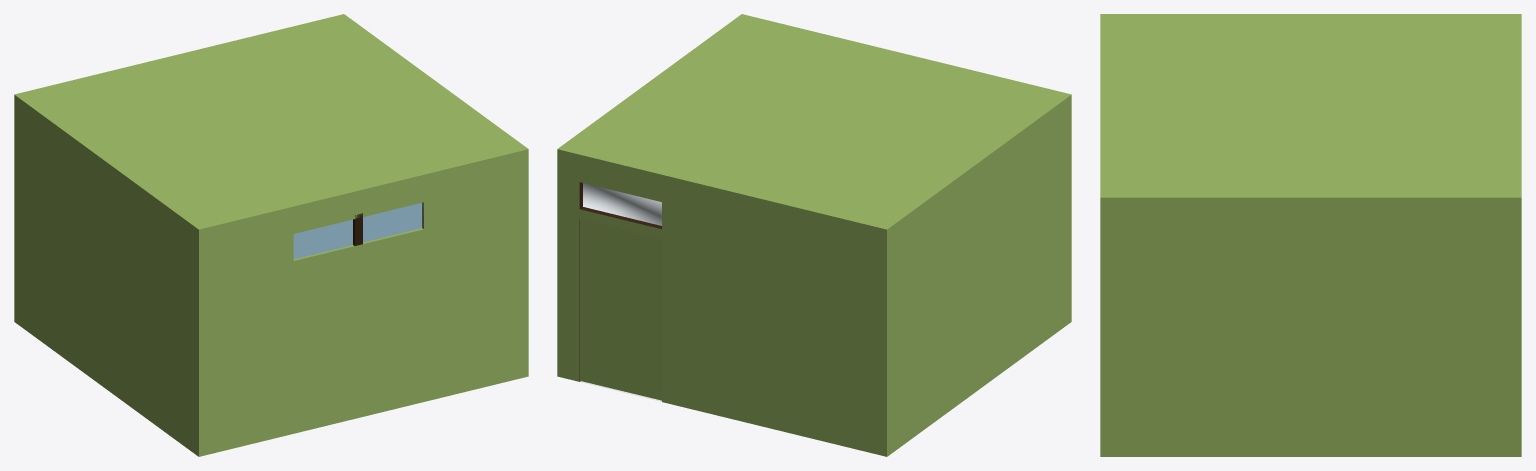
File: kamar v2.fbx
3 renders of one model, left to right at view 1: azimuth 30°, elevation 25°; view 2: azimuth 150°, elevation 25°; view 3: azimuth 270°, elevation 25°, orthographic. The views are drawn at different scales.
Visible parts, largest first — view 1: Cube.014; view 2: Cube.014, Cube.013; view 3: Cube.014.
Boxes of the visible parts, box(x1,y1,x2,y2) form: Cube.014: box(14, 14, 528, 456); Cube.014: box(557, 14, 1071, 456); Cube.013: box(580, 219, 661, 400); Cube.014: box(1100, 14, 1521, 456).
Size of the model in its own units: 3345 by 2219 by 3243.
2 materials, 2 textured.
